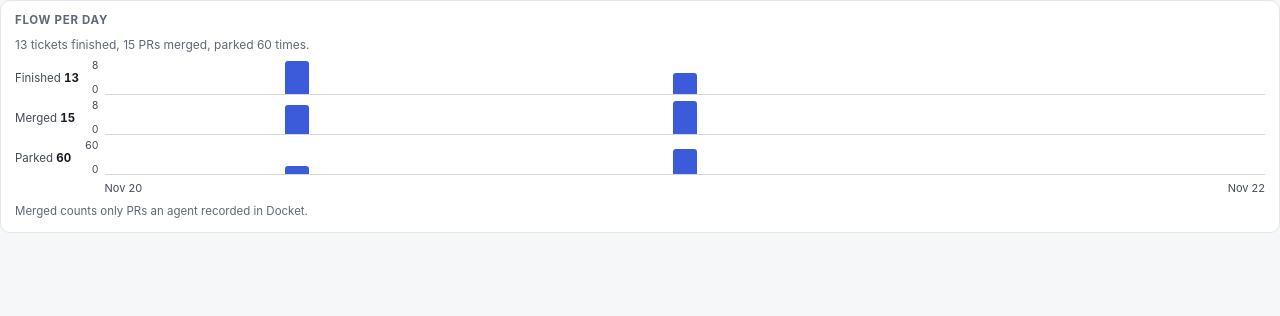
the chart › opens one tooltip with all three values on hover
Hover over the button named "Nov 21: 5 finished, 8 merged, 45 parked" at (685, 118), box [492,61,878,175]
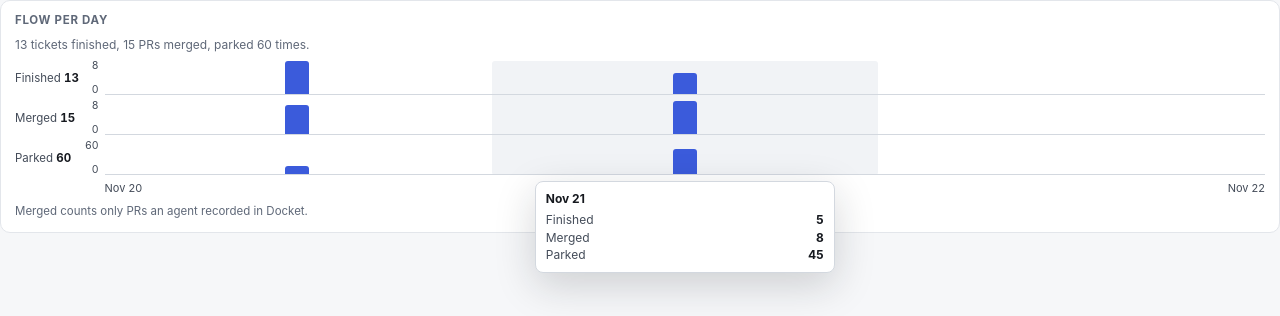
Result: the text "5" is shown at [816,212,824,229]
Result: the 3rd text "8" is shown at [816,229,824,246]
Result: the text "45" is shown at [808,246,824,264]
